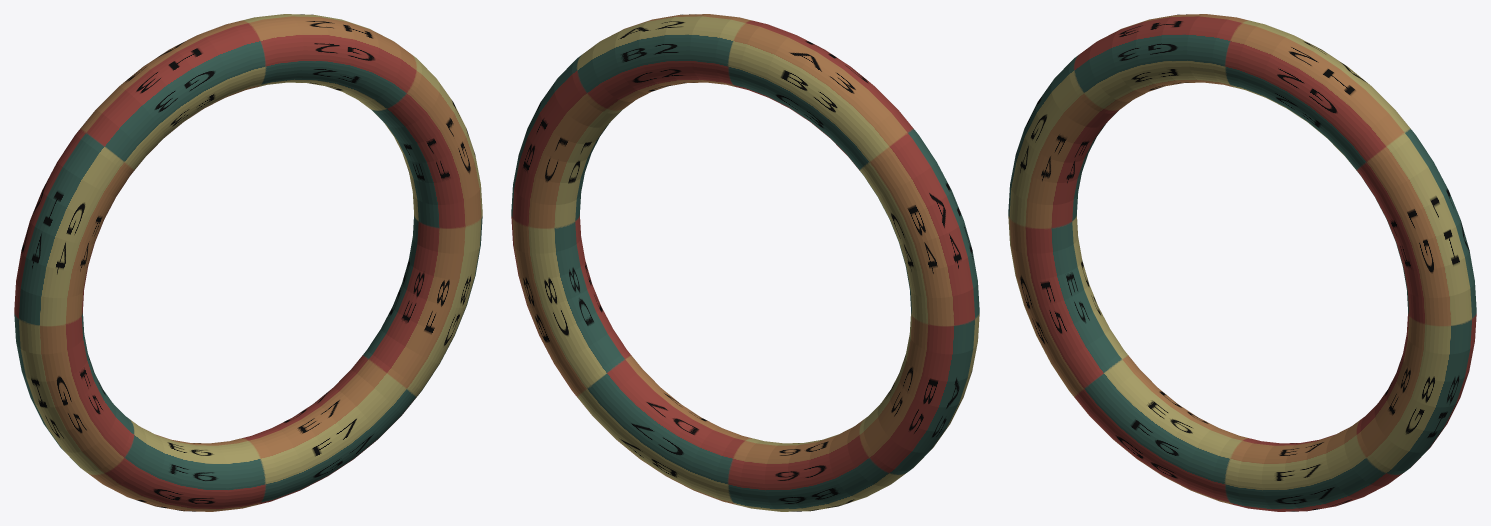
The model's file is texture_torus_R24_r7.glb.
The picture shows the model from 3 angles, left to right: view 1: azimuth 30°, elevation 25°; view 2: azimuth 150°, elevation 25°; view 3: azimuth 330°, elevation 25°; orthographic projection.
Parts seen in each view (by area): view 1: world; view 2: world; view 3: world.
Part boxes in pixels (bbox=[...]): world: bbox=[14, 14, 482, 511]; world: bbox=[511, 14, 979, 511]; world: bbox=[1008, 14, 1476, 511].
Size of the model in its own units: 29.87 by 29.81 by 3.86.
1 material, 1 textured.
